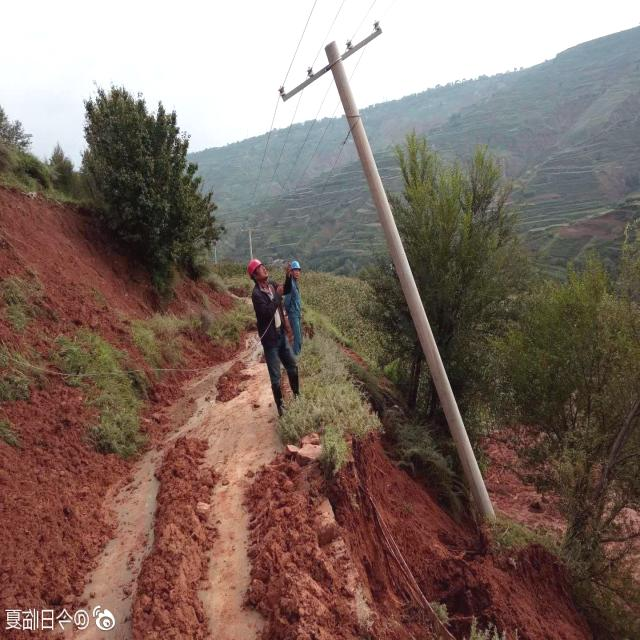head_helmet: (239, 259, 261, 280), (291, 260, 304, 270)
person: (246, 262, 278, 414), (282, 256, 310, 351)
